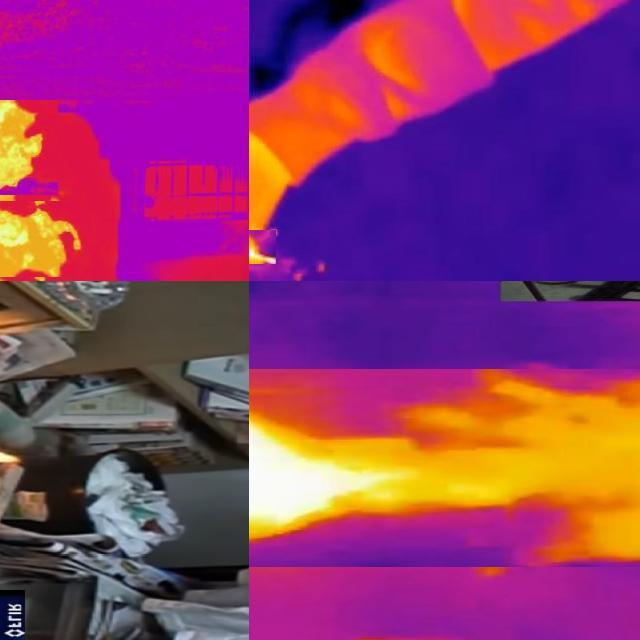fire: (250, 425, 356, 518), (1, 202, 91, 278), (1, 101, 57, 196), (250, 231, 276, 265)
